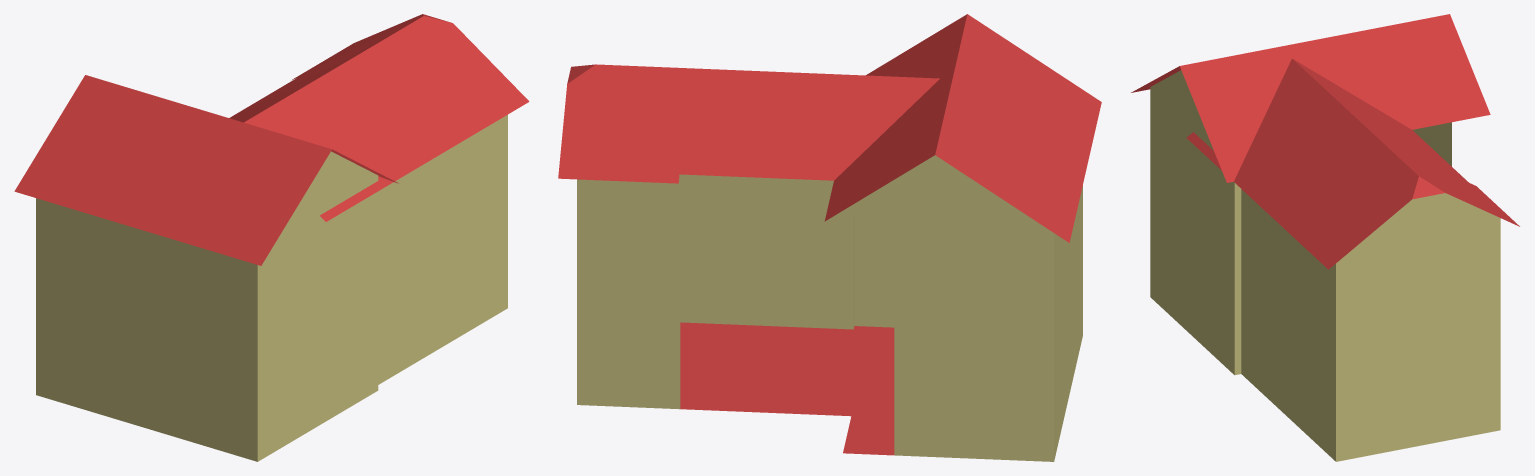
The picture shows the model from 3 angles, left to right: view 1: azimuth 30°, elevation 25°; view 2: azimuth 150°, elevation 25°; view 3: azimuth 270°, elevation 25°; orthographic projection. The views are drawn at different scales.
Size of the model in its own units: 26.69 by 19.28 by 14.91.
